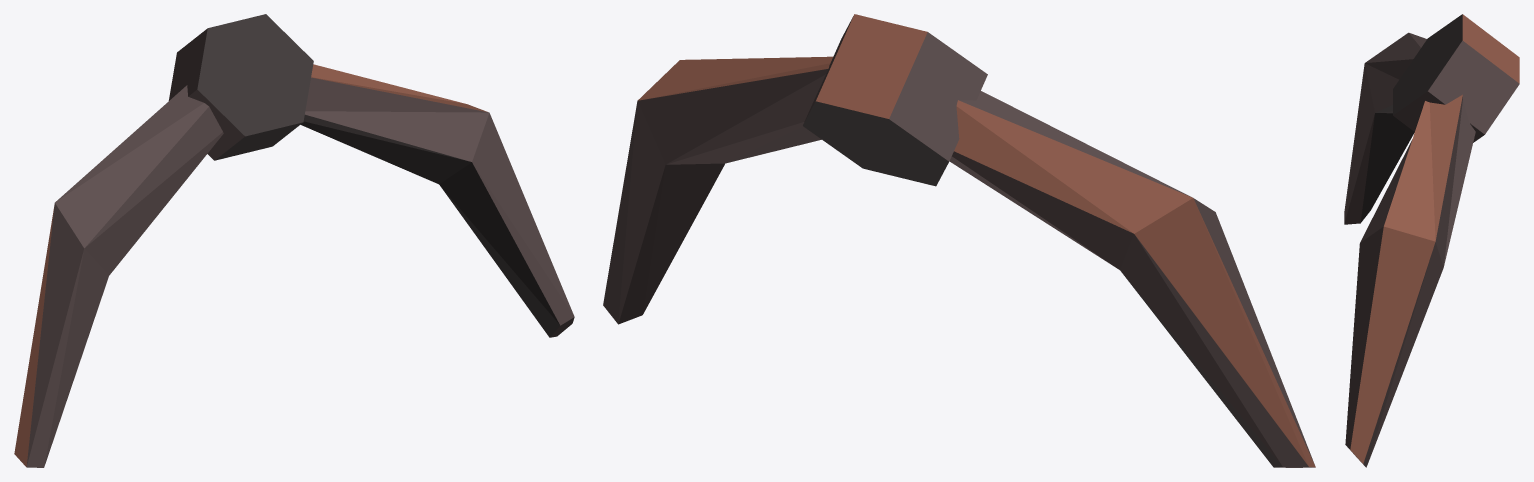
The model's file is TB_D_Env_BoneG_C.FBX.
3 renders of one model, left to right at view 1: azimuth 30°, elevation 25°; view 2: azimuth 150°, elevation 25°; view 3: azimuth 270°, elevation 25°, orthographic. The views are drawn at different scales.
Visible parts, largest first — view 1: TB_D_Env_BoneG_C; view 2: TB_D_Env_BoneG_C; view 3: TB_D_Env_BoneG_C.
Boxes of the visible parts, <box> form: TB_D_Env_BoneG_C: <box>14,14,574,467</box>; TB_D_Env_BoneG_C: <box>603,14,1315,467</box>; TB_D_Env_BoneG_C: <box>1344,14,1519,467</box>.
Size of the model in its own units: 2.03 by 1.19 by 0.5948.
